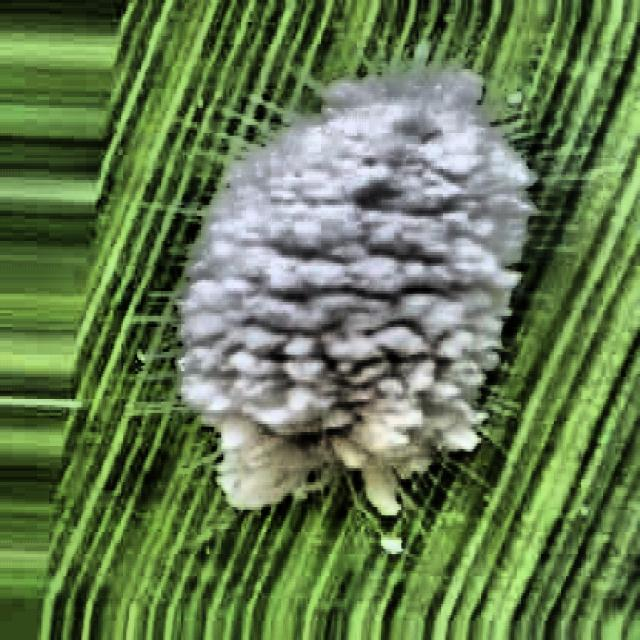Mealy-bug: (131, 10, 546, 594)
